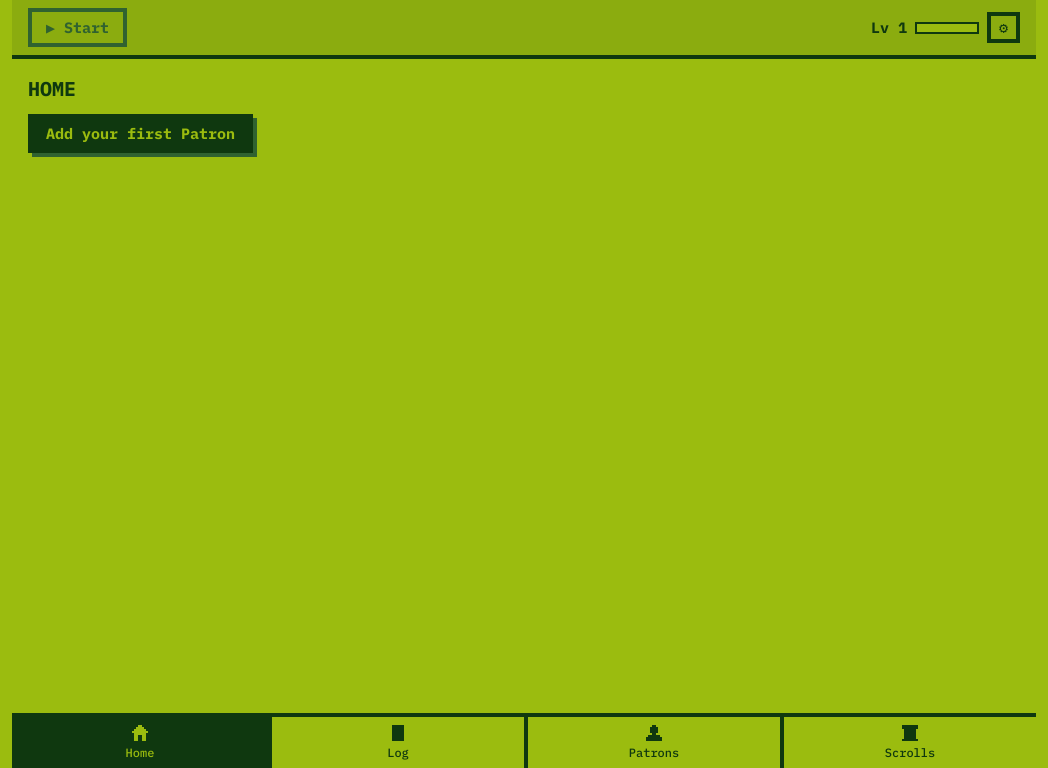
Settings › opens with ⌘, inside the current tab
The width and height of the screenshot is (1048, 768).
Click the tab "Log" at (396, 742), box [268,717,524,767]
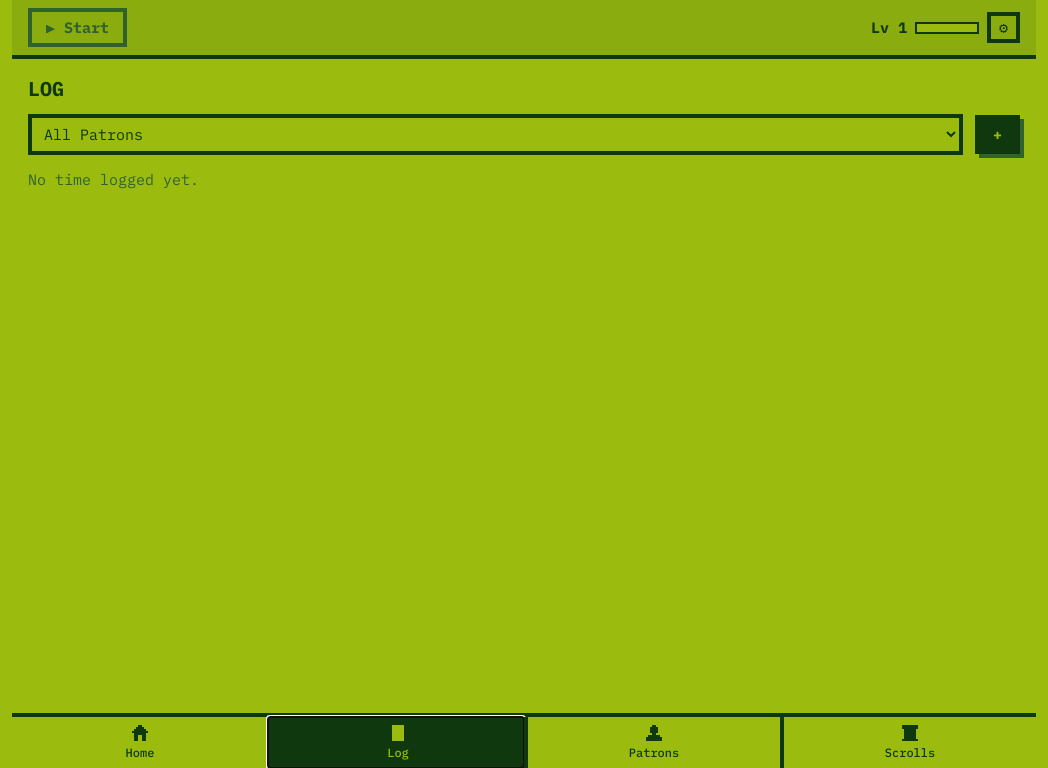
Type keys "{Meta>},{/Meta}"
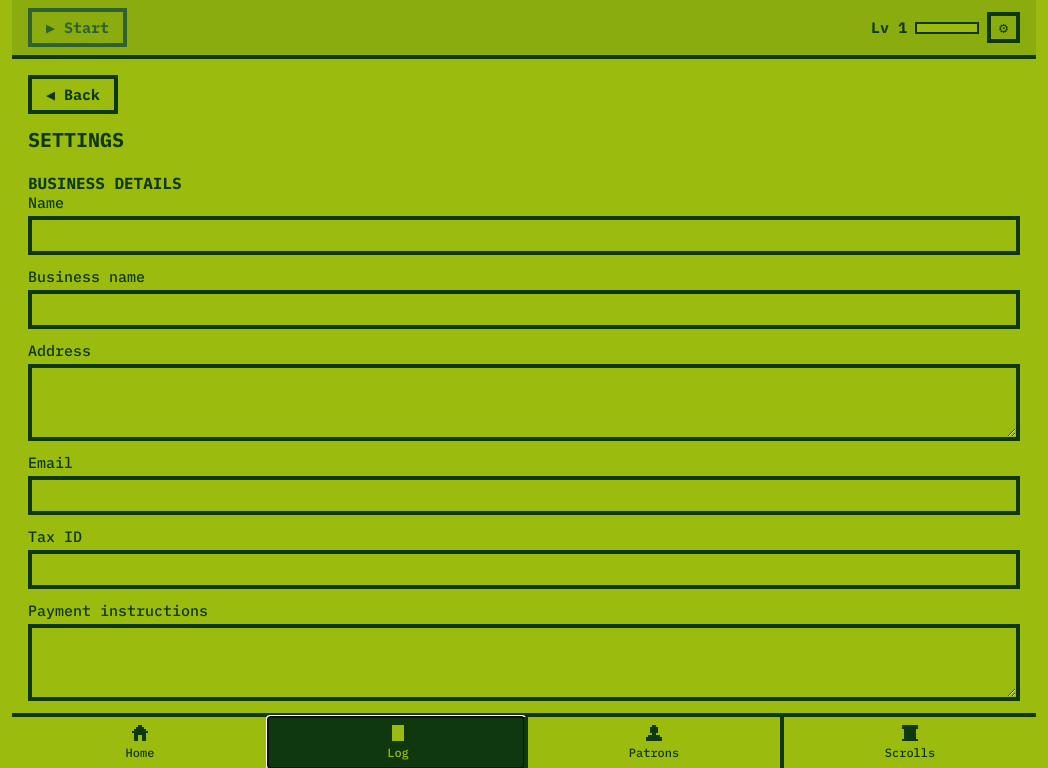
Expected: the heading "Settings" is shown, [28,126,124,153]
Click the button "◀ Back" at (73, 94), box [28,75,118,114]
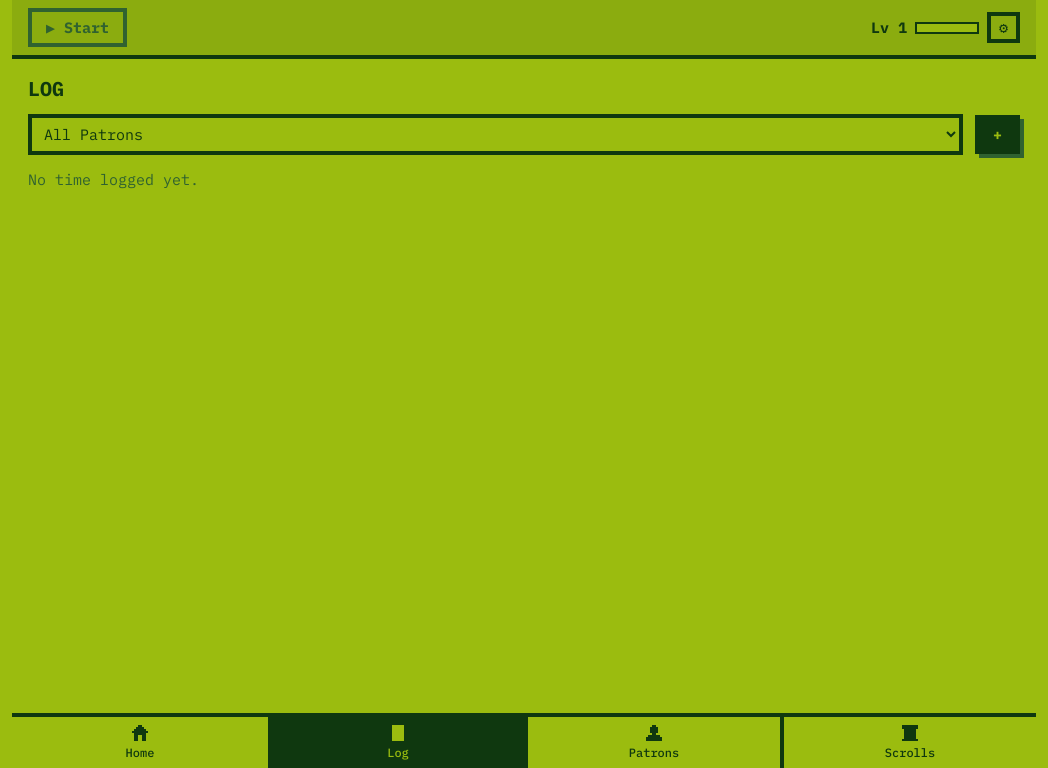
Expected: the heading "Log" is shown, [28,75,64,102]
